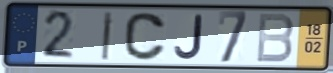2: (38, 8, 78, 63)
7: (216, 9, 249, 66)
B: (254, 12, 296, 65)
C: (123, 11, 169, 63)
I: (100, 10, 116, 62)
J: (172, 13, 204, 62)
